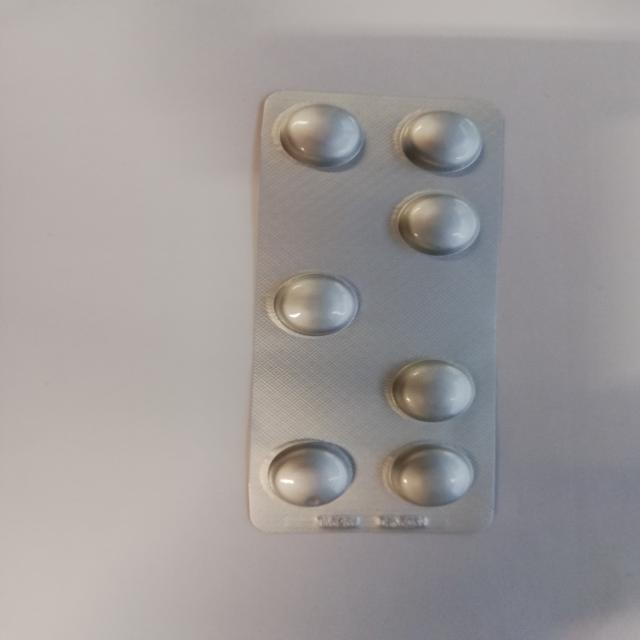Pill: (378, 358, 491, 432), (256, 435, 359, 514), (263, 266, 374, 338), (274, 93, 369, 174), (396, 189, 500, 261), (379, 443, 482, 513), (396, 99, 482, 179)
